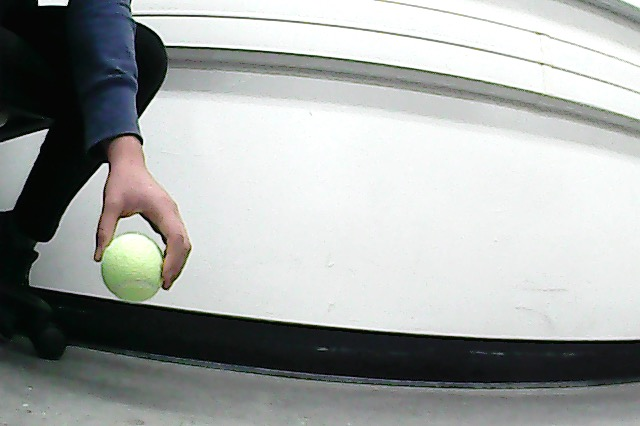ball: (99, 232, 166, 305)
